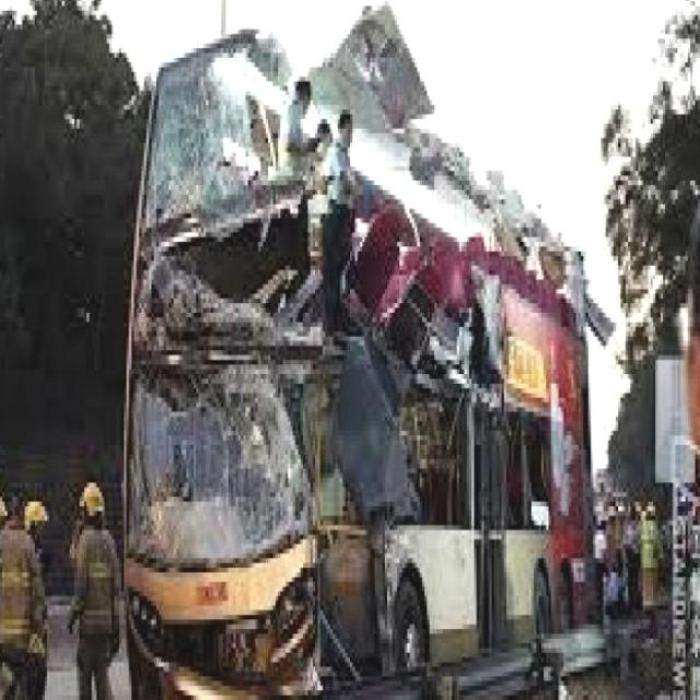Accident: (144, 54, 592, 658)
